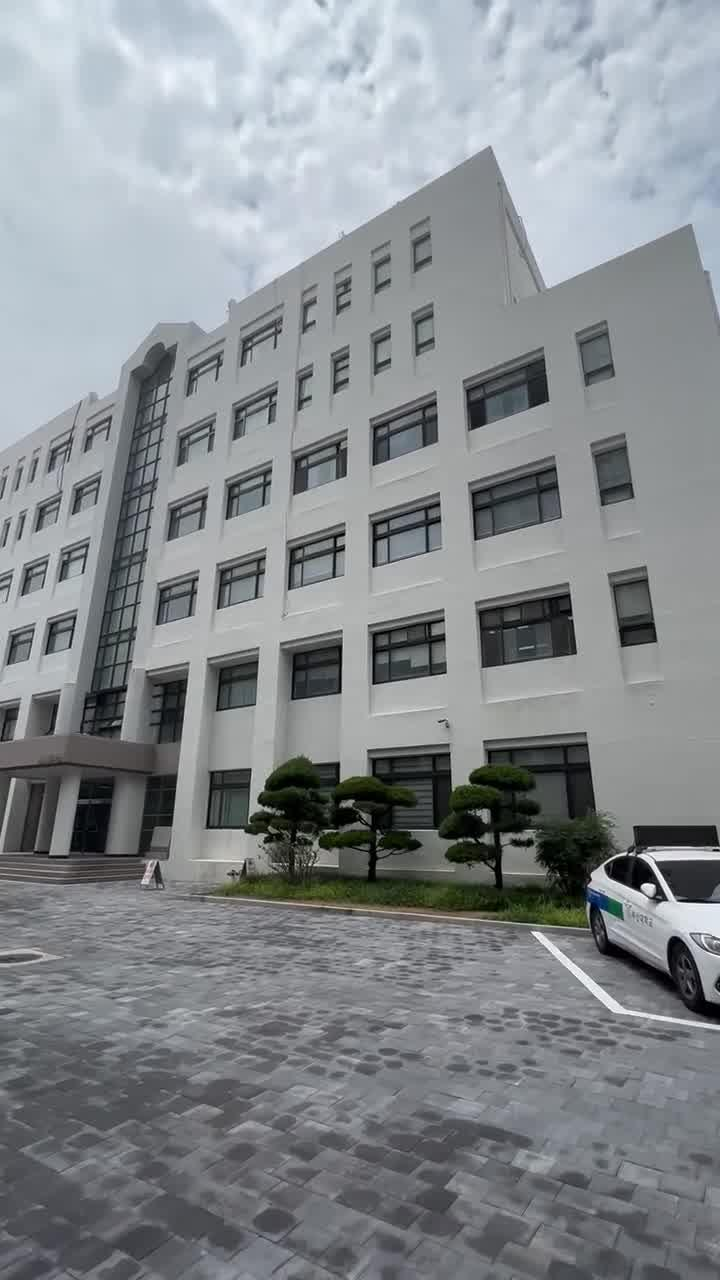building: (32, 180, 710, 726)
